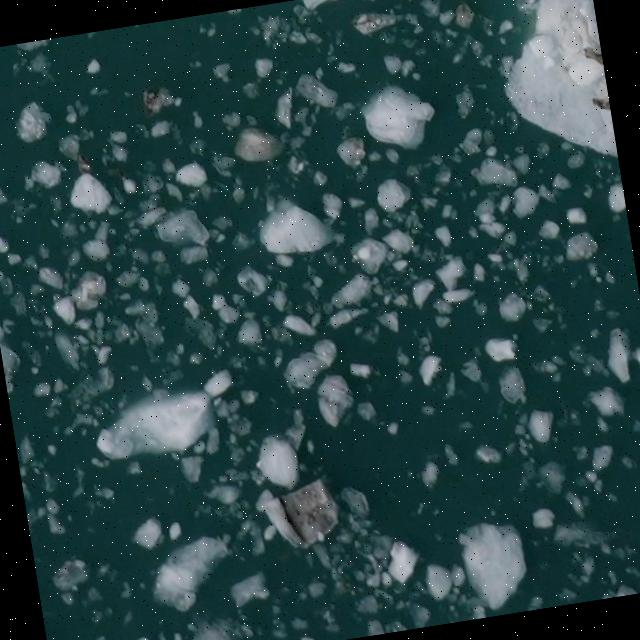seal: (586, 50, 603, 68), (593, 95, 609, 108)
